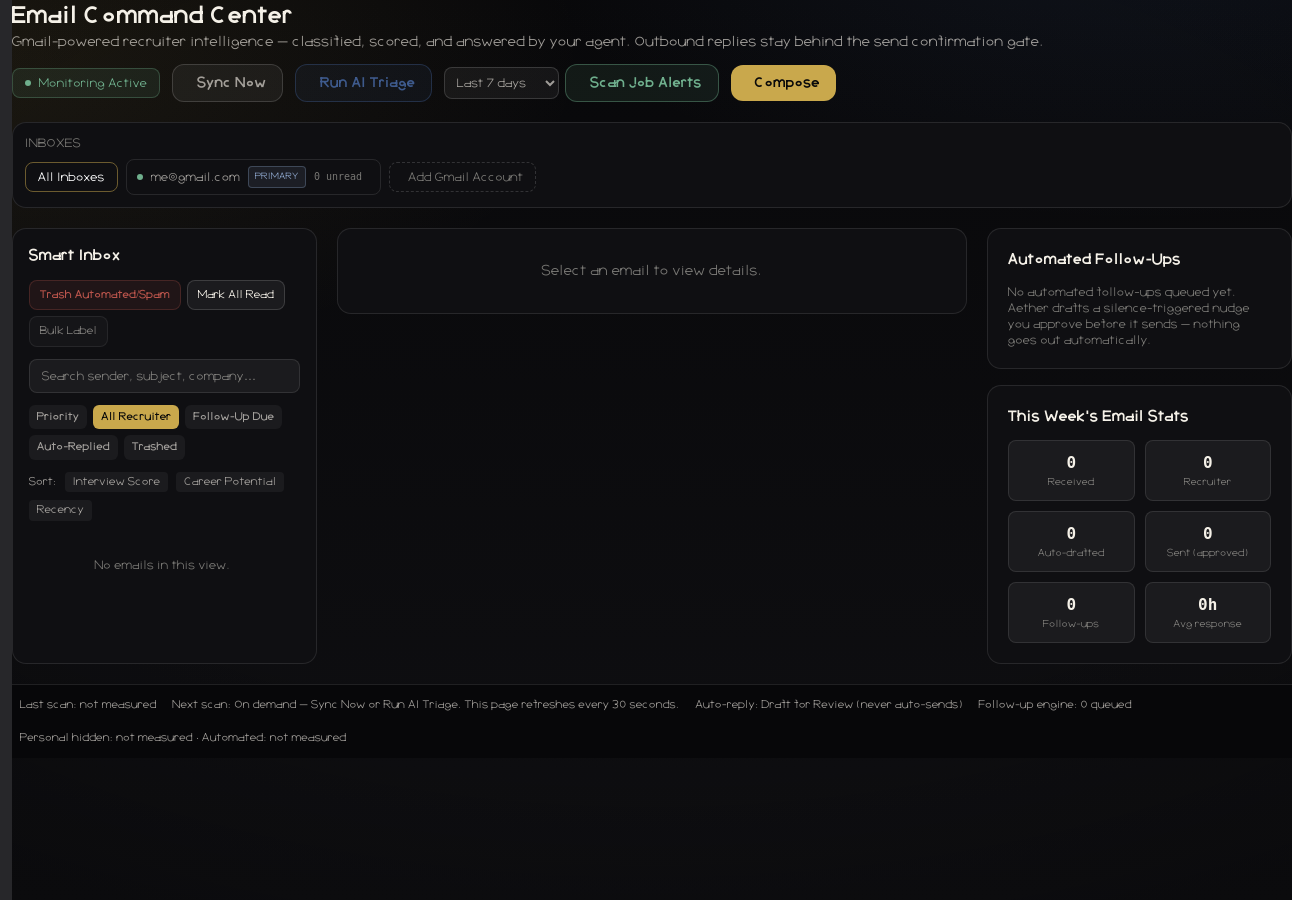
Scenario: honest states › an unreadable response is reported as such — never rendered as a zero scan
The image size is (1292, 900).
Click the button with test id "run-job-alerts-btn" at (642, 83), box [565,64,719,102]
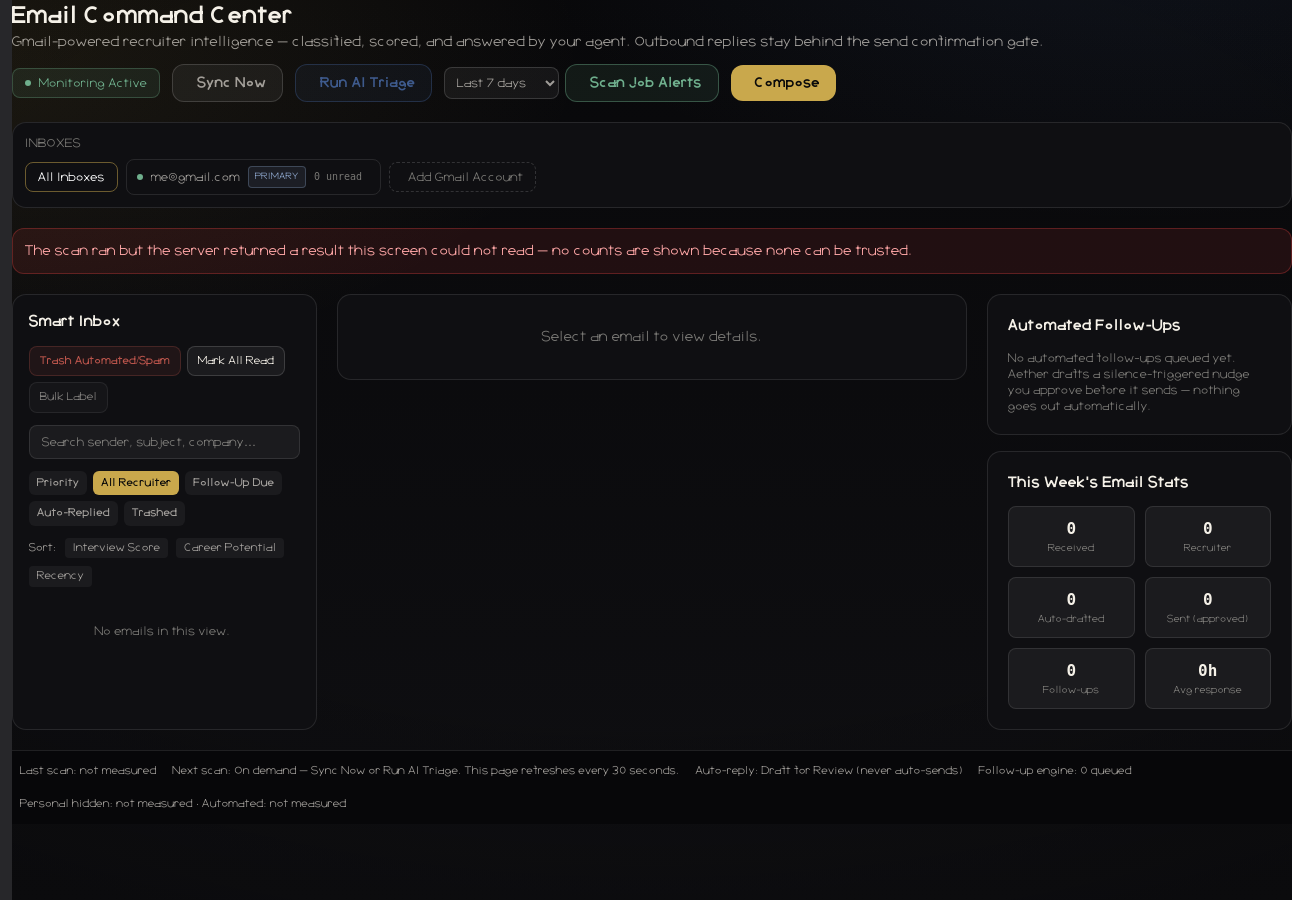
Result: the message with test id "job-alerts-error" shows "could not read" at [25,244,913,258]
